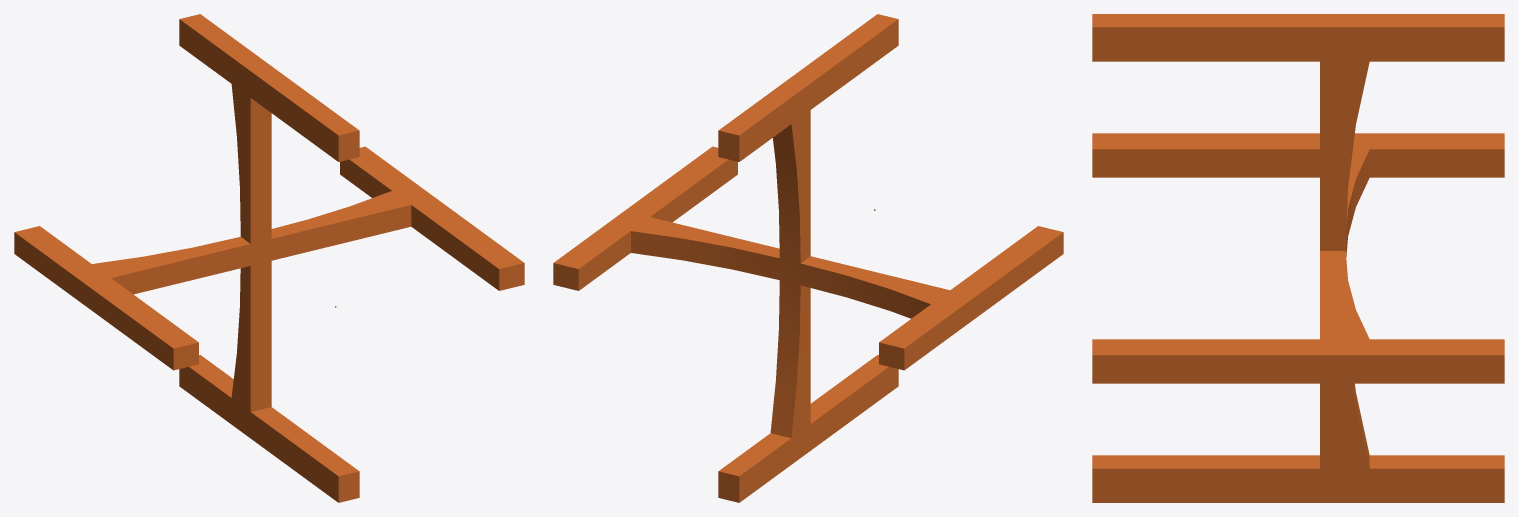
Rendered from MeshHouseplant_18_0_GeomSubset_1.obj.
3 views of the same model, side by side, from view 1: azimuth 30°, elevation 25°; view 2: azimuth 150°, elevation 25°; view 3: azimuth 270°, elevation 25° (orthographic). The views are drawn at different scales.
Parts seen in each view (by area): view 1: MeshHouseplant_18_0_GeomSubset_1; view 2: MeshHouseplant_18_0_GeomSubset_1; view 3: MeshHouseplant_18_0_GeomSubset_1.
Part boxes in pixels (x1=…): MeshHouseplant_18_0_GeomSubset_1: x1=14, y1=14, x2=524, y2=502; MeshHouseplant_18_0_GeomSubset_1: x1=553, y1=14, x2=1063, y2=502; MeshHouseplant_18_0_GeomSubset_1: x1=1092, y1=14, x2=1504, y2=502.
Bounding box in the file's own units: 0.2365 × 0.2365 × 0.1857.
